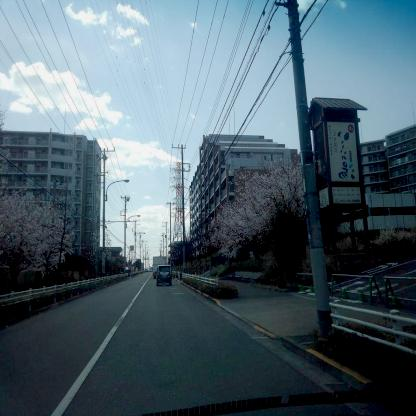Someiyoshino: (207, 145, 316, 266), (0, 172, 82, 279)
